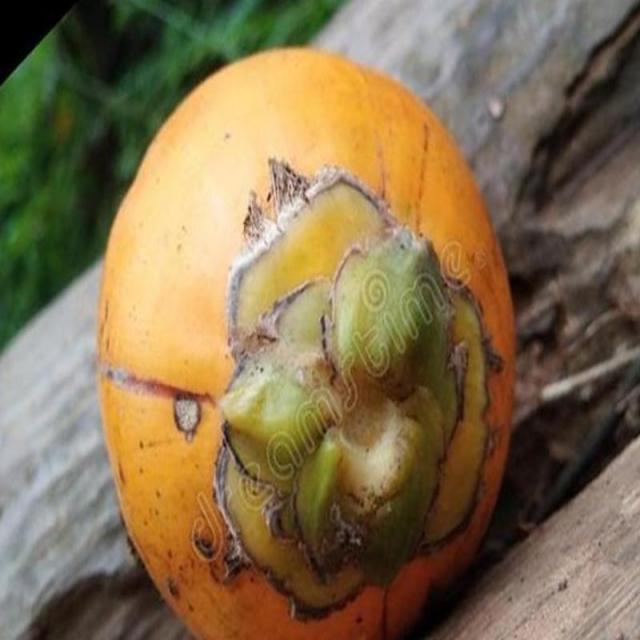good: (92, 47, 517, 639)
